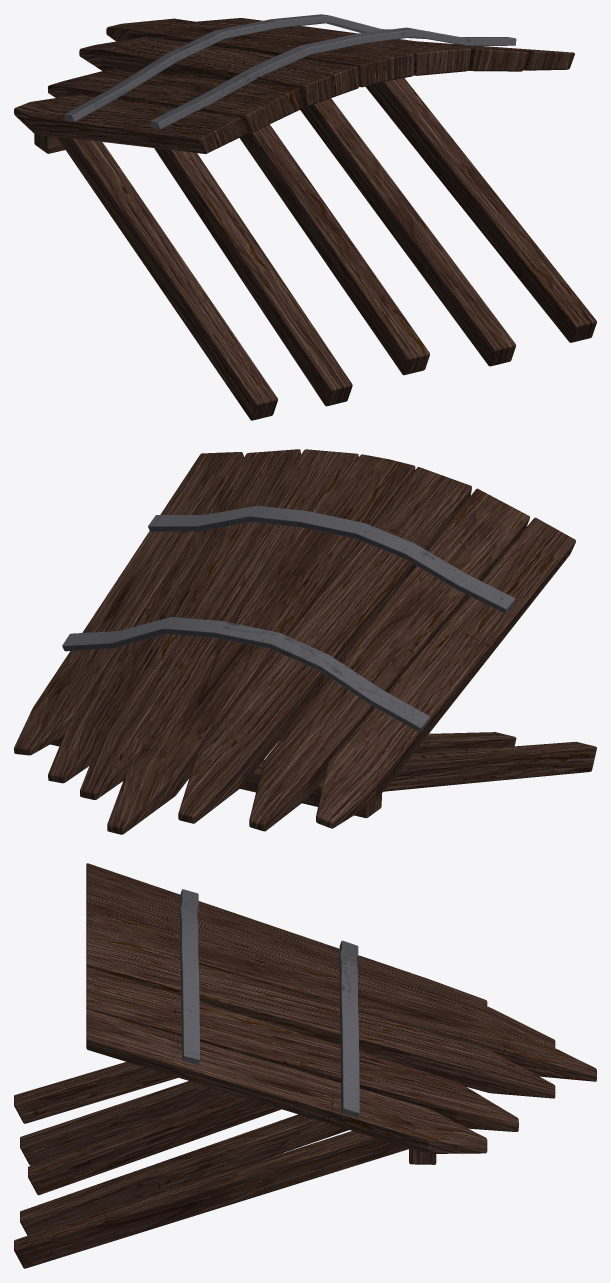
Rendered from wall.fbx.
3 views of the same model, one above another, from view 1: azimuth 30°, elevation 25°; view 2: azimuth 150°, elevation 25°; view 3: azimuth 270°, elevation 25° (orthographic). The views are drawn at different scales.
Visible parts, largest first — view 1: Cube.002, Cube.001; view 2: Cube.002, Cube.001; view 3: Cube.002, Cube.001.
Boxes of the visible parts, x1,y1,x2,y2 form: Cube.002: (14,18,596,420); Cube.001: (64,14,516,129); Cube.002: (14,449,596,834); Cube.001: (62,505,515,732); Cube.002: (14,863,596,1268); Cube.001: (179,889,359,1117).
Size of the model in its own units: 136 by 105 by 197.
